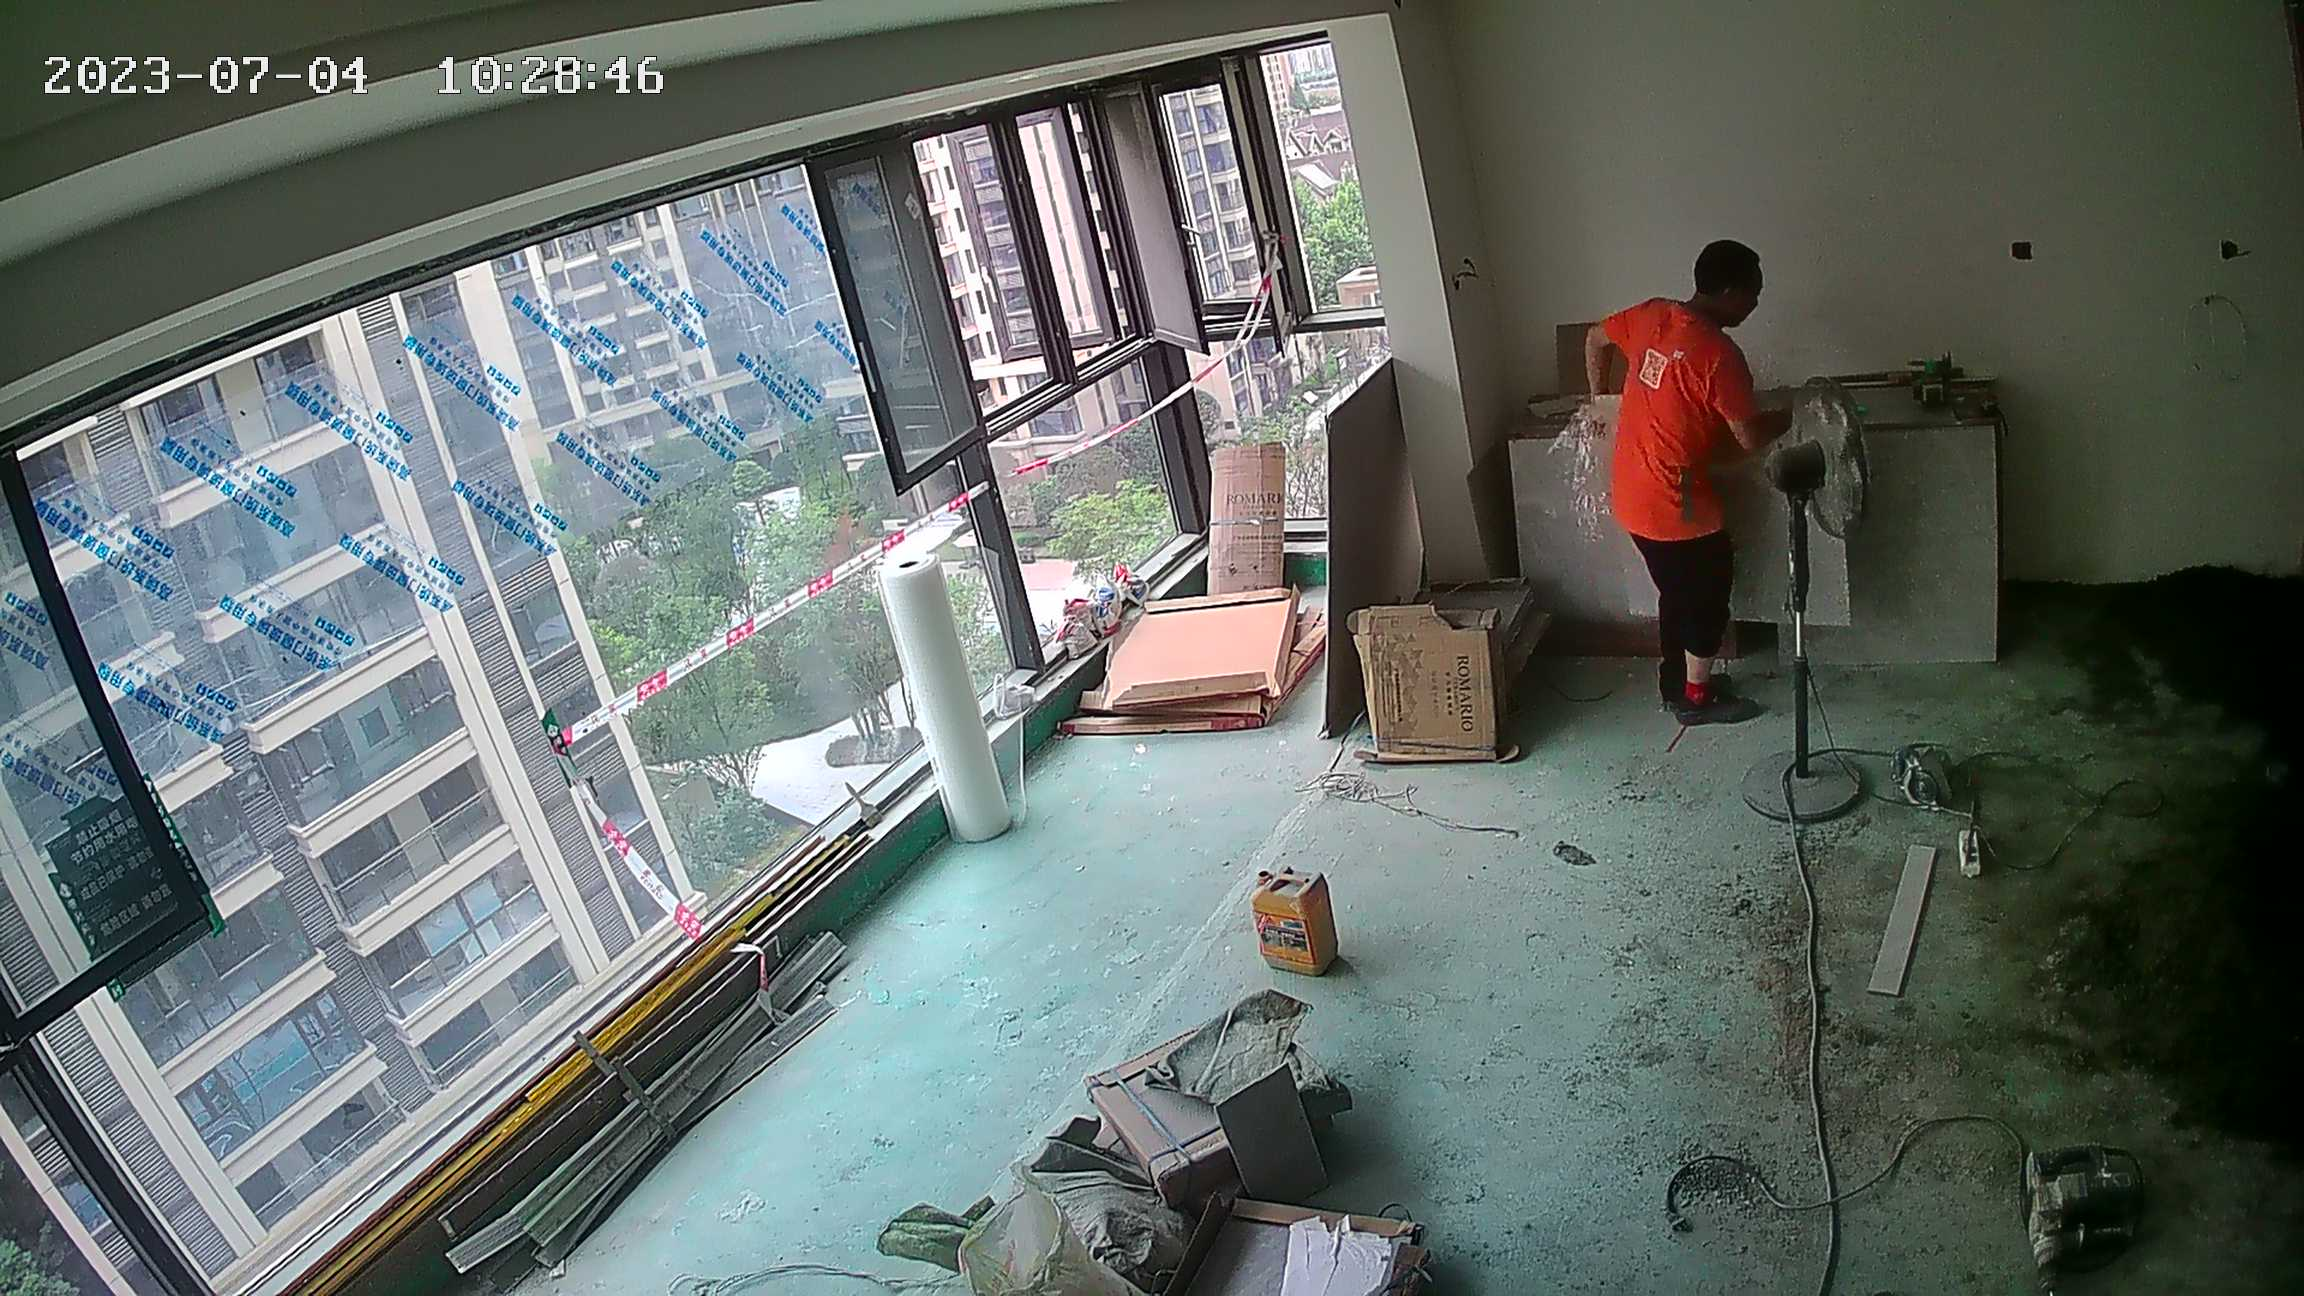people: (1585, 236, 1815, 736)
window: (58, 90, 1352, 832)
